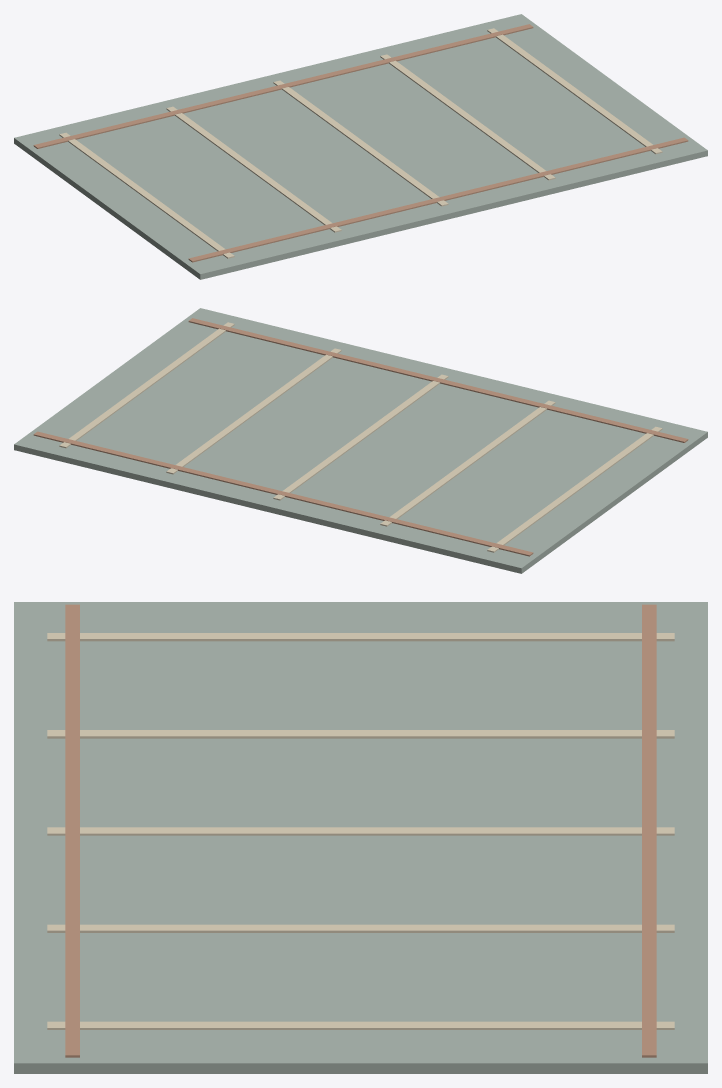
The model's file is rug_geometric.glb.
3 views of the same model, one above another, from view 1: azimuth 30°, elevation 25°; view 2: azimuth 150°, elevation 25°; view 3: azimuth 270°, elevation 25° (orthographic). The views are drawn at different scales.
Visible parts, largest first — view 1: WovenRug, _MeshInstance3D_78, RugHem, WeaveStripe, _MeshInstance3D_74, _MeshInstance3D_75, _MeshInstance3D_77, _MeshInstance3D_76; view 2: WovenRug, RugHem, _MeshInstance3D_78, WeaveStripe, _MeshInstance3D_74, _MeshInstance3D_75, _MeshInstance3D_77, _MeshInstance3D_76; view 3: WovenRug, RugHem, _MeshInstance3D_78, _MeshInstance3D_74, _MeshInstance3D_75, WeaveStripe, _MeshInstance3D_76, _MeshInstance3D_77.
Part boxes in pixels (x1,y1,x2,y2): WovenRug: (14, 14, 707, 279); _MeshInstance3D_78: (188, 137, 688, 262); RugHem: (33, 24, 533, 148); WeaveStripe: (59, 132, 234, 258); _MeshInstance3D_74: (166, 106, 341, 232); _MeshInstance3D_75: (273, 80, 448, 206); _MeshInstance3D_77: (487, 28, 662, 154); _MeshInstance3D_76: (380, 54, 555, 180); WovenRug: (14, 308, 707, 573); RugHem: (33, 431, 533, 556); _MeshInstance3D_78: (188, 318, 688, 442); WeaveStripe: (487, 426, 662, 552); _MeshInstance3D_74: (380, 400, 555, 526); _MeshInstance3D_75: (273, 374, 448, 500); _MeshInstance3D_77: (59, 322, 234, 448); _MeshInstance3D_76: (166, 348, 341, 474); WovenRug: (14, 602, 707, 1073); RugHem: (642, 604, 656, 1057); _MeshInstance3D_78: (65, 604, 79, 1057); _MeshInstance3D_74: (47, 730, 674, 738); _MeshInstance3D_75: (47, 827, 674, 835); WeaveStripe: (47, 633, 674, 641); _MeshInstance3D_76: (47, 924, 674, 932); _MeshInstance3D_77: (47, 1021, 674, 1029).
Size of the model in its own units: 2.61 by 0.035 by 1.66.
